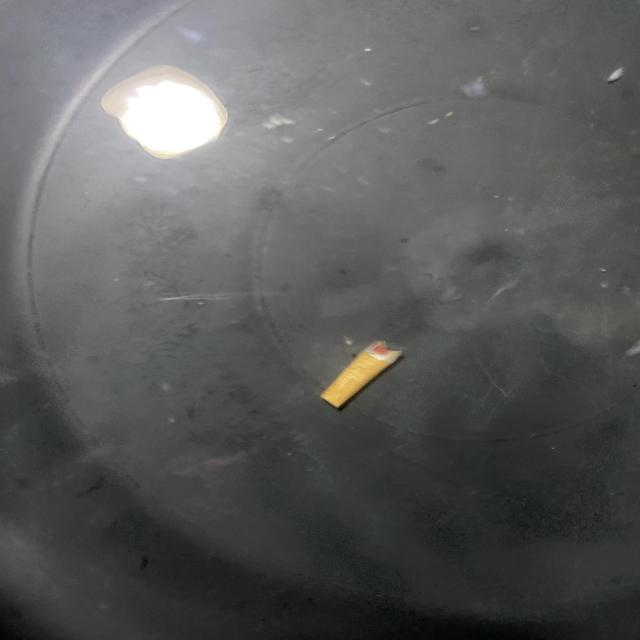Cigarette Filter: (323, 338, 407, 418)
